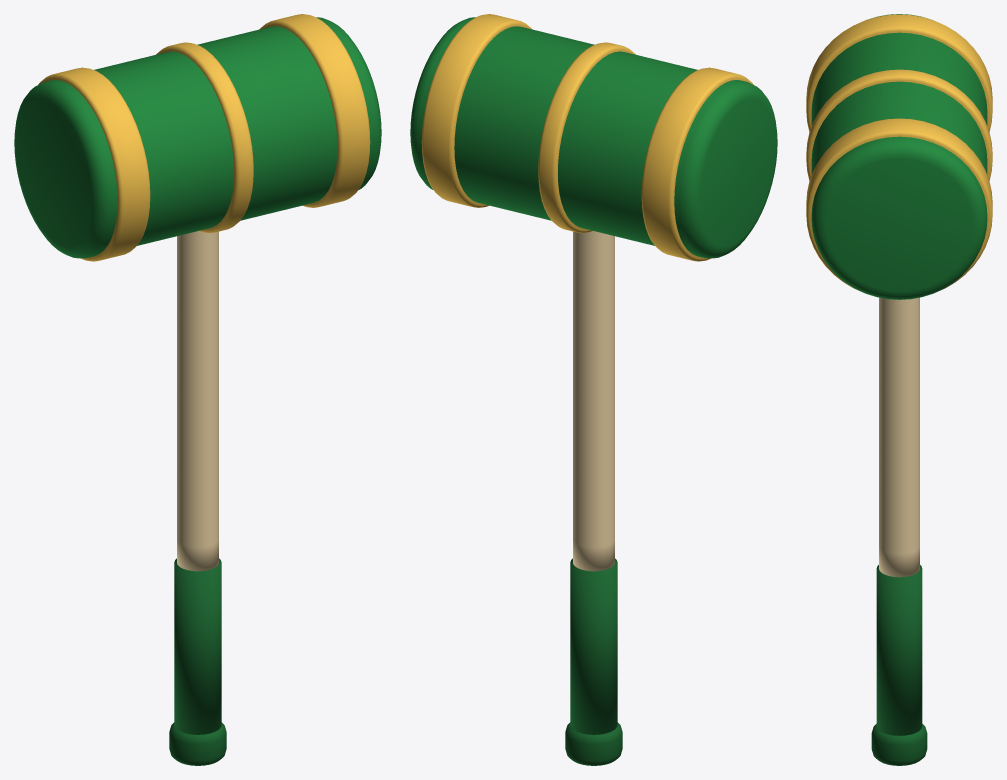
Rendered from hammer_akadaru.fbx.
3 renders of one model, left to right at view 1: azimuth 30°, elevation 25°; view 2: azimuth 150°, elevation 25°; view 3: azimuth 270°, elevation 25°, orthographic. The views are drawn at different scales.
Parts seen in each view (by area): view 1: akadaru_hammer; view 2: akadaru_hammer; view 3: akadaru_hammer.
Part boxes in pixels (<box>): akadaru_hammer: <box>14,14,381,765</box>; akadaru_hammer: <box>410,14,777,765</box>; akadaru_hammer: <box>806,14,992,765</box>.
Bounding box in the file's own units: 1.1 × 2.58 × 0.636.
